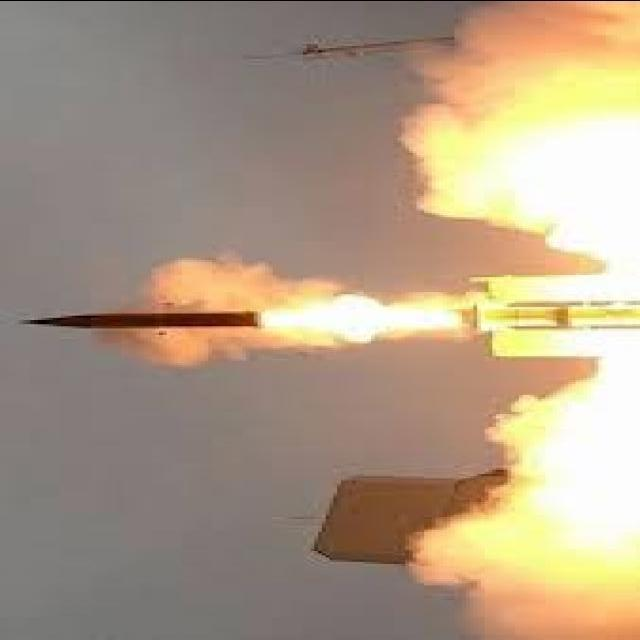missile: (22, 297, 268, 353)
